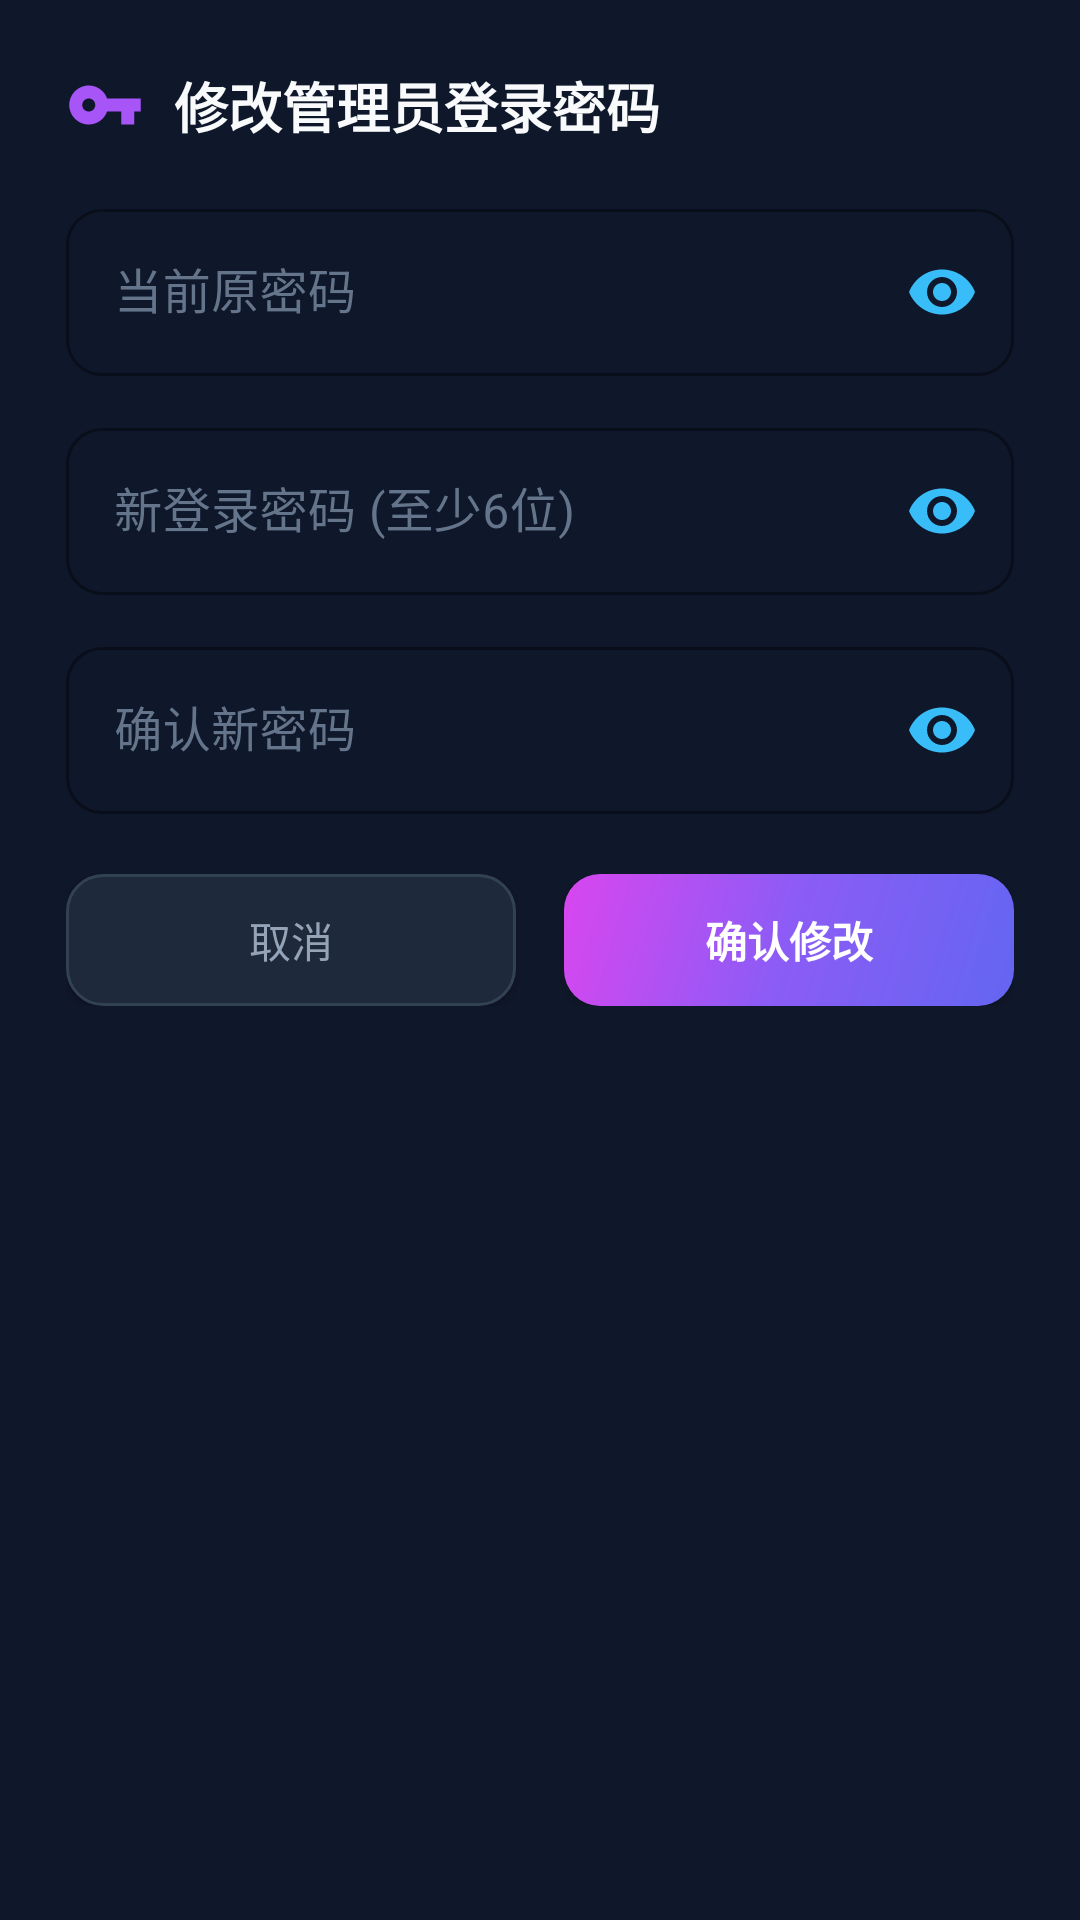

Where icons sit on this 1080×1920 app screen, as [left=x1, top=y1, right=x2, bottom=y2]:
Key Icon: [left=69, top=85, right=141, bottom=125]
